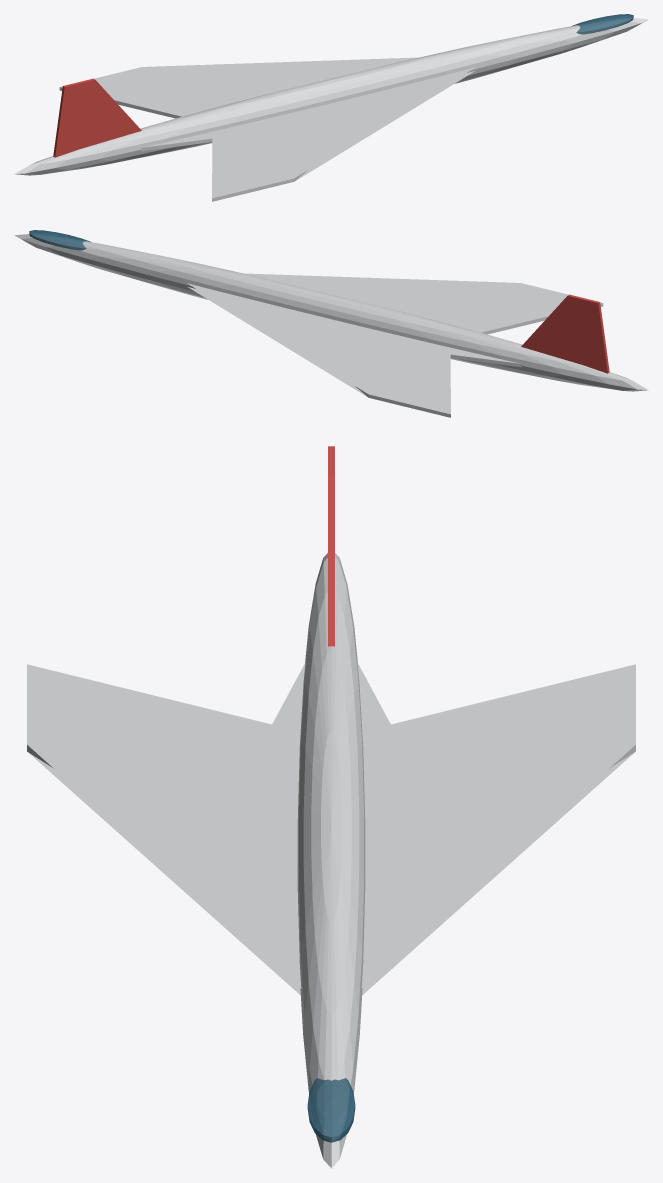
The model's file is concorde-reference.glb.
3 renders of one model, top to bottom at view 1: azimuth 30°, elevation 25°; view 2: azimuth 150°, elevation 25°; view 3: azimuth 270°, elevation 25°, orthographic. The views are drawn at different scales.
Parts seen in each view (by area): view 1: 协和式客机; view 2: 协和式客机; view 3: 协和式客机.
Part boxes in pixels (left/top/right/bottom): 协和式客机: left=14, top=14, right=648, bottom=201; 协和式客机: left=14, top=230, right=648, bottom=417; 协和式客机: left=27, top=446, right=635, bottom=1168.
Bounding box in the file's own units: 61.66 × 8.57 × 25.6.
